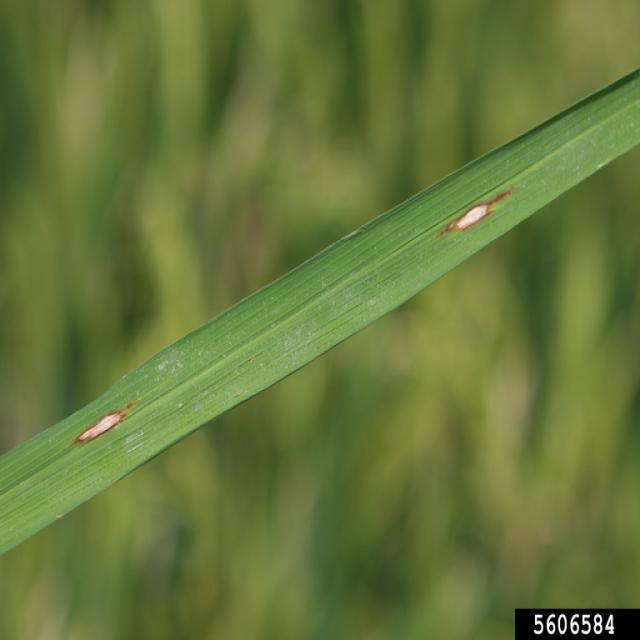Leaf blast: (0, 70, 640, 559)
